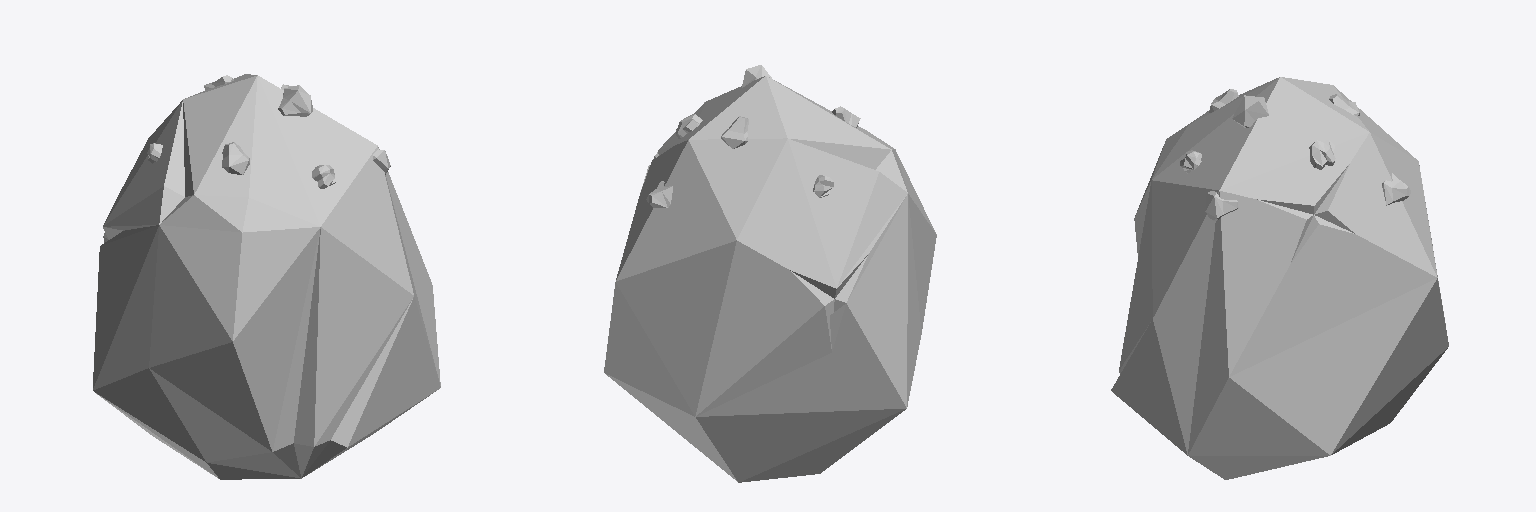
Rendered from BrackyRock.obj.
3 renders of one model, left to right at view 1: azimuth 30°, elevation 25°; view 2: azimuth 150°, elevation 25°; view 3: azimuth 270°, elevation 25°, orthographic.
Parts seen in each view (by area): view 1: Cookie, Chunks; view 2: Cookie, Chunks; view 3: Cookie, Chunks.
Boxes of the visible parts, box(x1,y1,x2,y2) form: Cookie: box(93, 74, 440, 479); Chunks: box(147, 75, 390, 188); Cookie: box(604, 76, 936, 482); Chunks: box(646, 65, 860, 207); Cookie: box(1111, 77, 1448, 479); Chunks: box(1180, 89, 1410, 220).
Size of the model in its own units: 2.01 by 2.29 by 1.95.